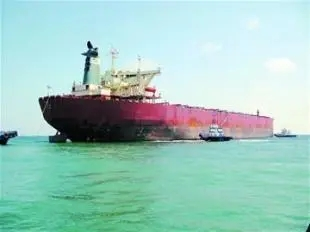Cargoship: (37, 41, 278, 140)
otherboat: (192, 118, 238, 141), (274, 127, 298, 138)
